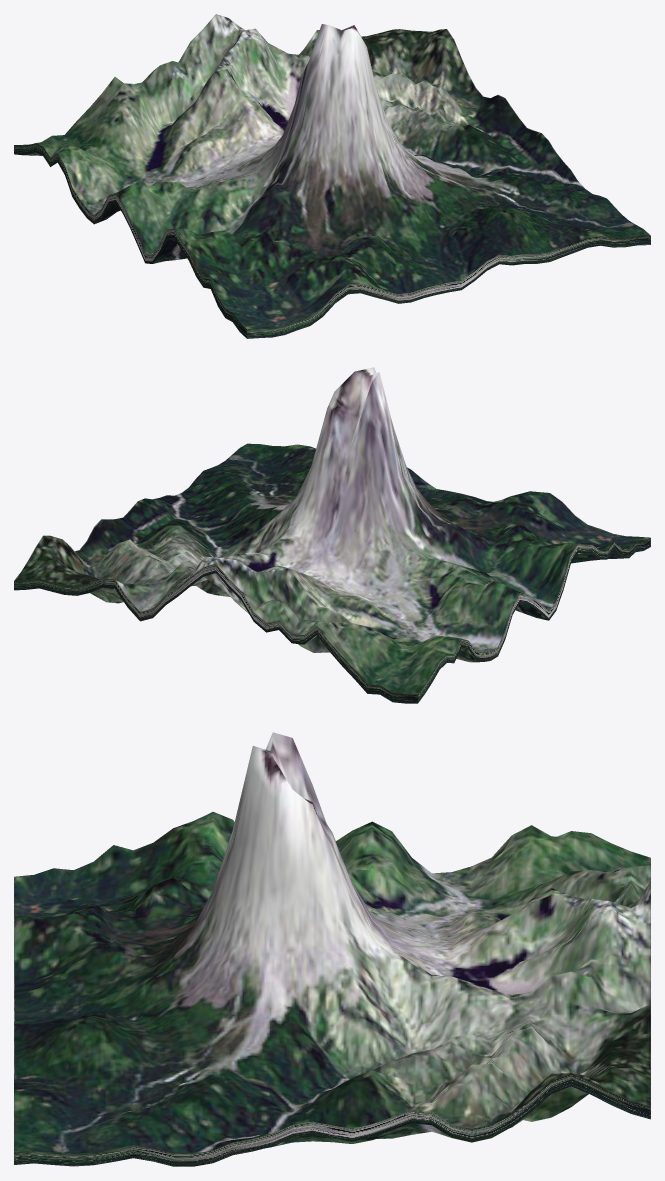
File: mountain.obj
The picture shows the model from 3 angles, top to bottom: view 1: azimuth 30°, elevation 25°; view 2: azimuth 150°, elevation 25°; view 3: azimuth 270°, elevation 25°; orthographic projection. The views are drawn at different scales.
Visible parts, largest first — view 1: Box002; view 2: Box002; view 3: Box002.
Part boxes in pixels (x1,y1,x2,y2): Box002: [14, 14, 650, 338]; Box002: [14, 367, 650, 703]; Box002: [14, 732, 650, 1166].
Size of the model in its own units: 354 by 174 by 354.
